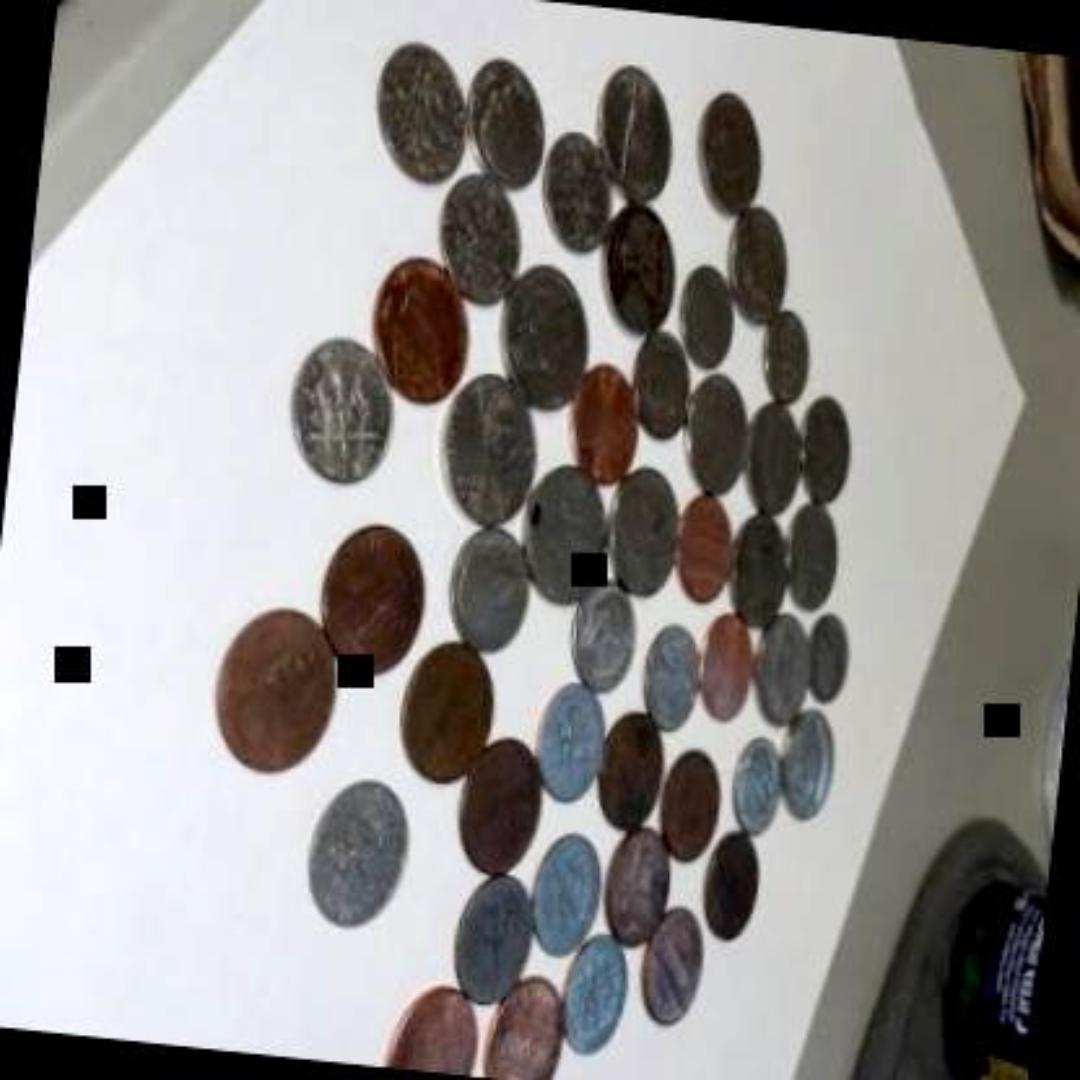Dime: (276, 330, 404, 490), (298, 772, 418, 936), (358, 28, 477, 182), (431, 171, 534, 311), (458, 54, 559, 190), (437, 524, 538, 659), (443, 864, 539, 1006), (534, 123, 622, 263), (526, 679, 614, 811), (522, 826, 608, 958), (558, 927, 634, 1059), (566, 573, 646, 697), (620, 326, 697, 440), (672, 253, 742, 367), (633, 620, 705, 728), (752, 302, 818, 406), (727, 736, 789, 838), (799, 606, 858, 708)
Nickel: (432, 366, 546, 538), (488, 261, 598, 411), (514, 454, 617, 608), (580, 51, 682, 204), (592, 202, 688, 338), (599, 464, 689, 598), (684, 74, 772, 208), (712, 197, 798, 326), (677, 368, 757, 494), (734, 384, 810, 512), (725, 508, 800, 634), (748, 608, 818, 732), (788, 392, 860, 512), (776, 705, 846, 827), (779, 496, 841, 610)
Penny: (214, 606, 342, 778), (355, 249, 479, 404), (316, 517, 430, 677), (392, 634, 502, 788), (450, 725, 552, 878), (478, 960, 574, 1080), (588, 698, 672, 834), (379, 974, 485, 1076), (566, 361, 646, 485), (596, 820, 670, 950), (668, 486, 744, 610), (631, 909, 708, 1023), (656, 742, 728, 862), (688, 604, 760, 722), (700, 828, 762, 937)
